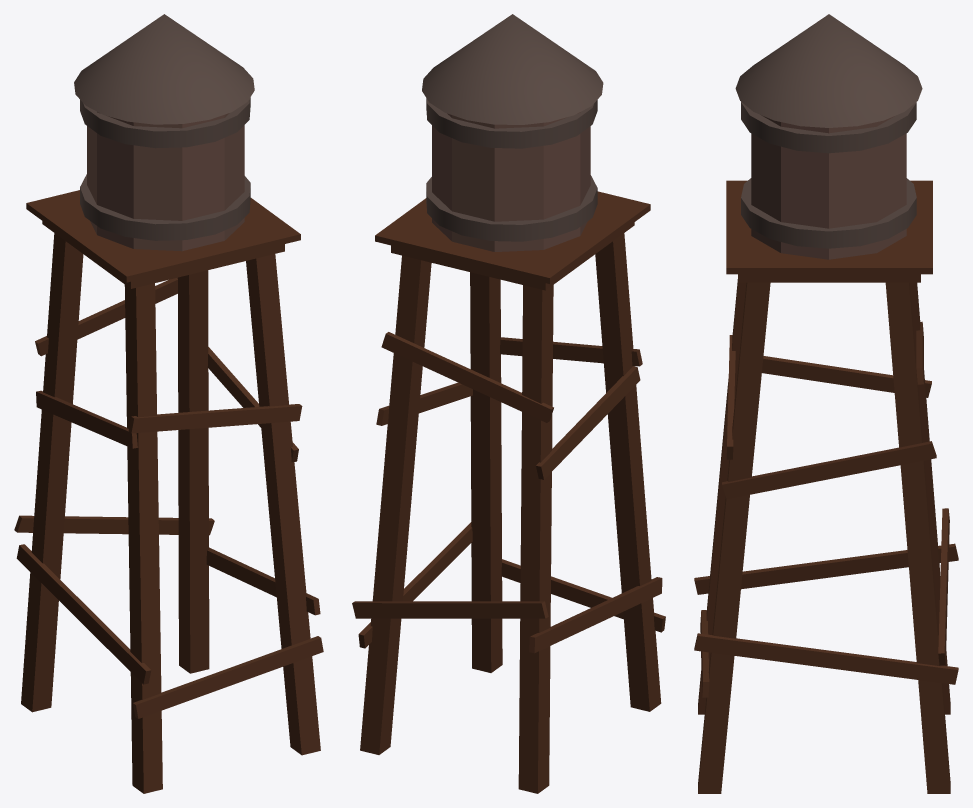
Rendered from Water Tower.fbx.
The picture shows the model from 3 angles, left to right: view 1: azimuth 30°, elevation 25°; view 2: azimuth 150°, elevation 25°; view 3: azimuth 270°, elevation 25°; orthographic projection. The views are drawn at different scales.
Parts seen in each view (by area): view 1: pCube143; view 2: pCube143; view 3: pCube143.
Boxes of the visible parts, bbox=[...] form: pCube143: bbox=[14, 14, 323, 793]; pCube143: bbox=[352, 14, 665, 793]; pCube143: bbox=[694, 14, 958, 793].
Size of the model in its own units: 12.29 by 42.87 by 14.
